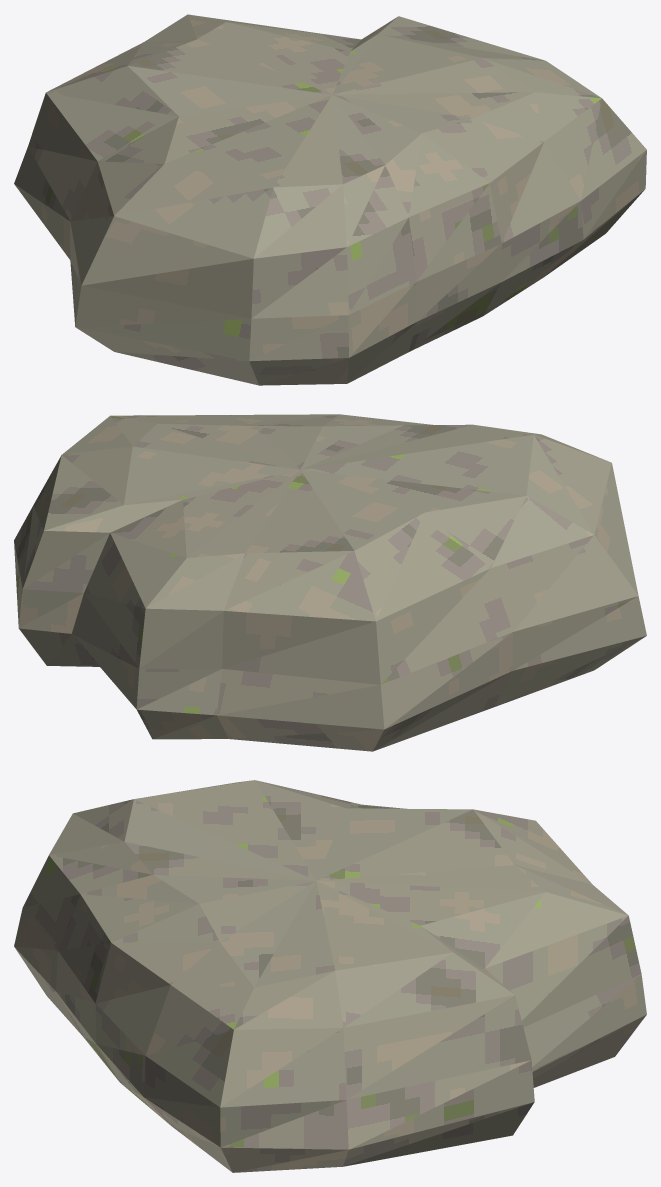
Rendered from forest_rock_outcrop.glb.
The picture shows the model from 3 angles, top to bottom: view 1: azimuth 30°, elevation 25°; view 2: azimuth 150°, elevation 25°; view 3: azimuth 270°, elevation 25°; orthographic projection. The views are drawn at different scales.
Visible parts, largest first — view 1: ForestRock; view 2: ForestRock; view 3: ForestRock.
Boxes of the visible parts, x1=… form: ForestRock: x1=14, y1=14, x2=646, y2=385; ForestRock: x1=14, y1=414, x2=646, y2=751; ForestRock: x1=14, y1=780, x2=646, y2=1172.
Size of what is drawn, in the model's own units: 2.42 by 0.6983 by 2.22.
1 material, 1 textured.
